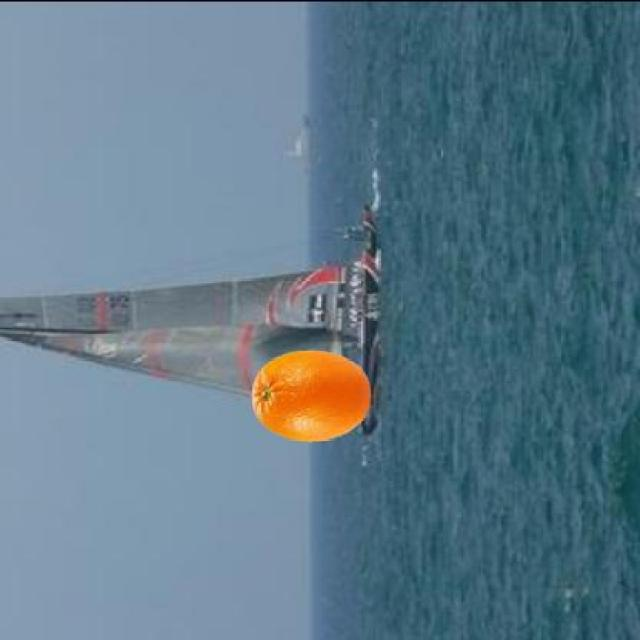Orange: (249, 348, 371, 443)
